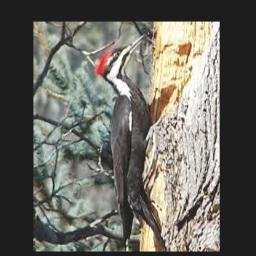Woodpecker: (96, 34, 166, 251)
